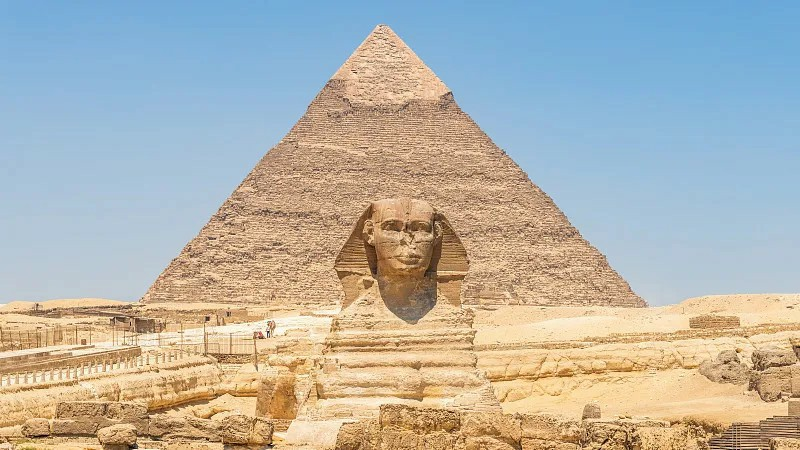Pyramid: (133, 25, 648, 309)
